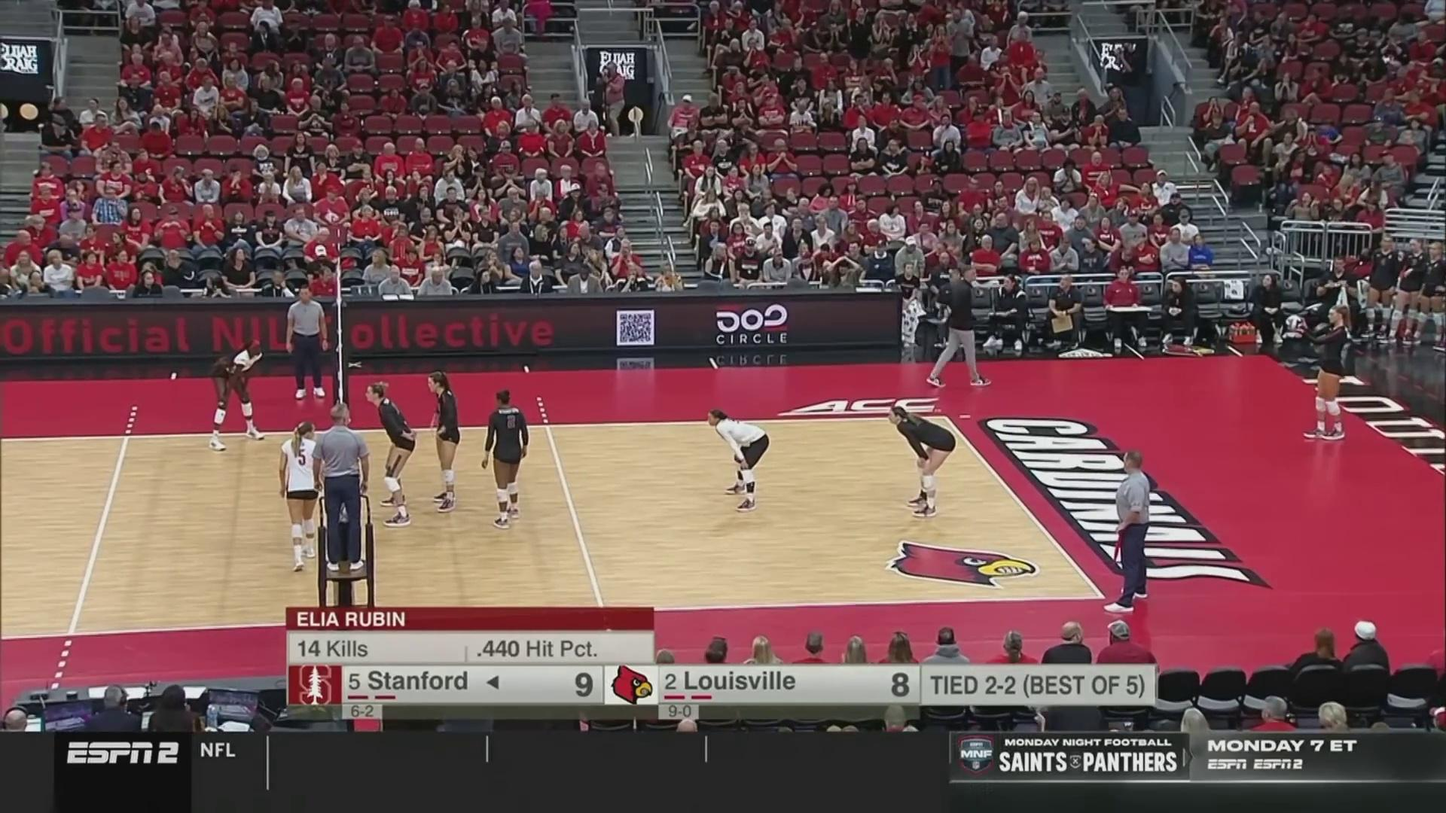player: (477, 389, 536, 527), (282, 417, 333, 571), (363, 384, 417, 526), (891, 402, 958, 514), (209, 340, 271, 453), (708, 413, 769, 508), (1308, 304, 1348, 441), (426, 371, 462, 512)
refree: (318, 404, 367, 571), (1103, 450, 1150, 617), (283, 280, 326, 400)
